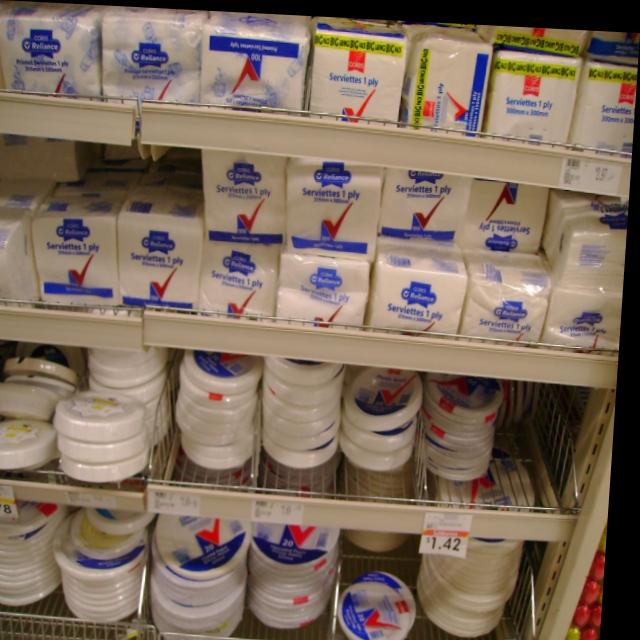q293: (29, 202, 127, 314), (196, 131, 292, 241), (124, 200, 208, 313), (375, 246, 476, 338), (289, 152, 382, 249), (199, 234, 286, 331), (278, 249, 373, 334), (467, 160, 559, 243), (480, 243, 555, 340), (383, 160, 471, 242)
